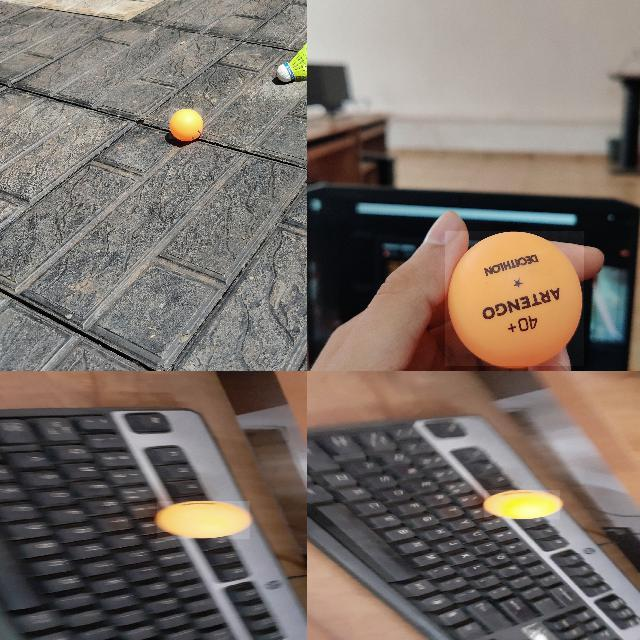ping-pong-ball: (445, 231, 585, 367), (157, 500, 251, 540), (484, 490, 561, 520), (168, 108, 204, 140)
